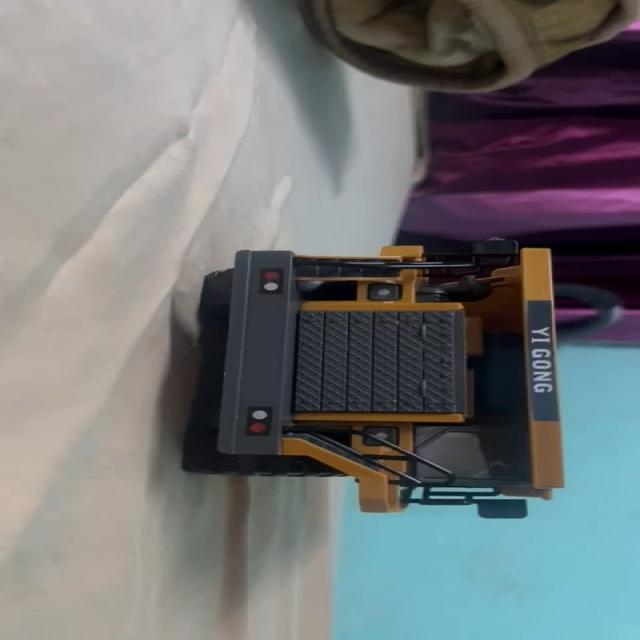dump_truck: (174, 233, 591, 522)
